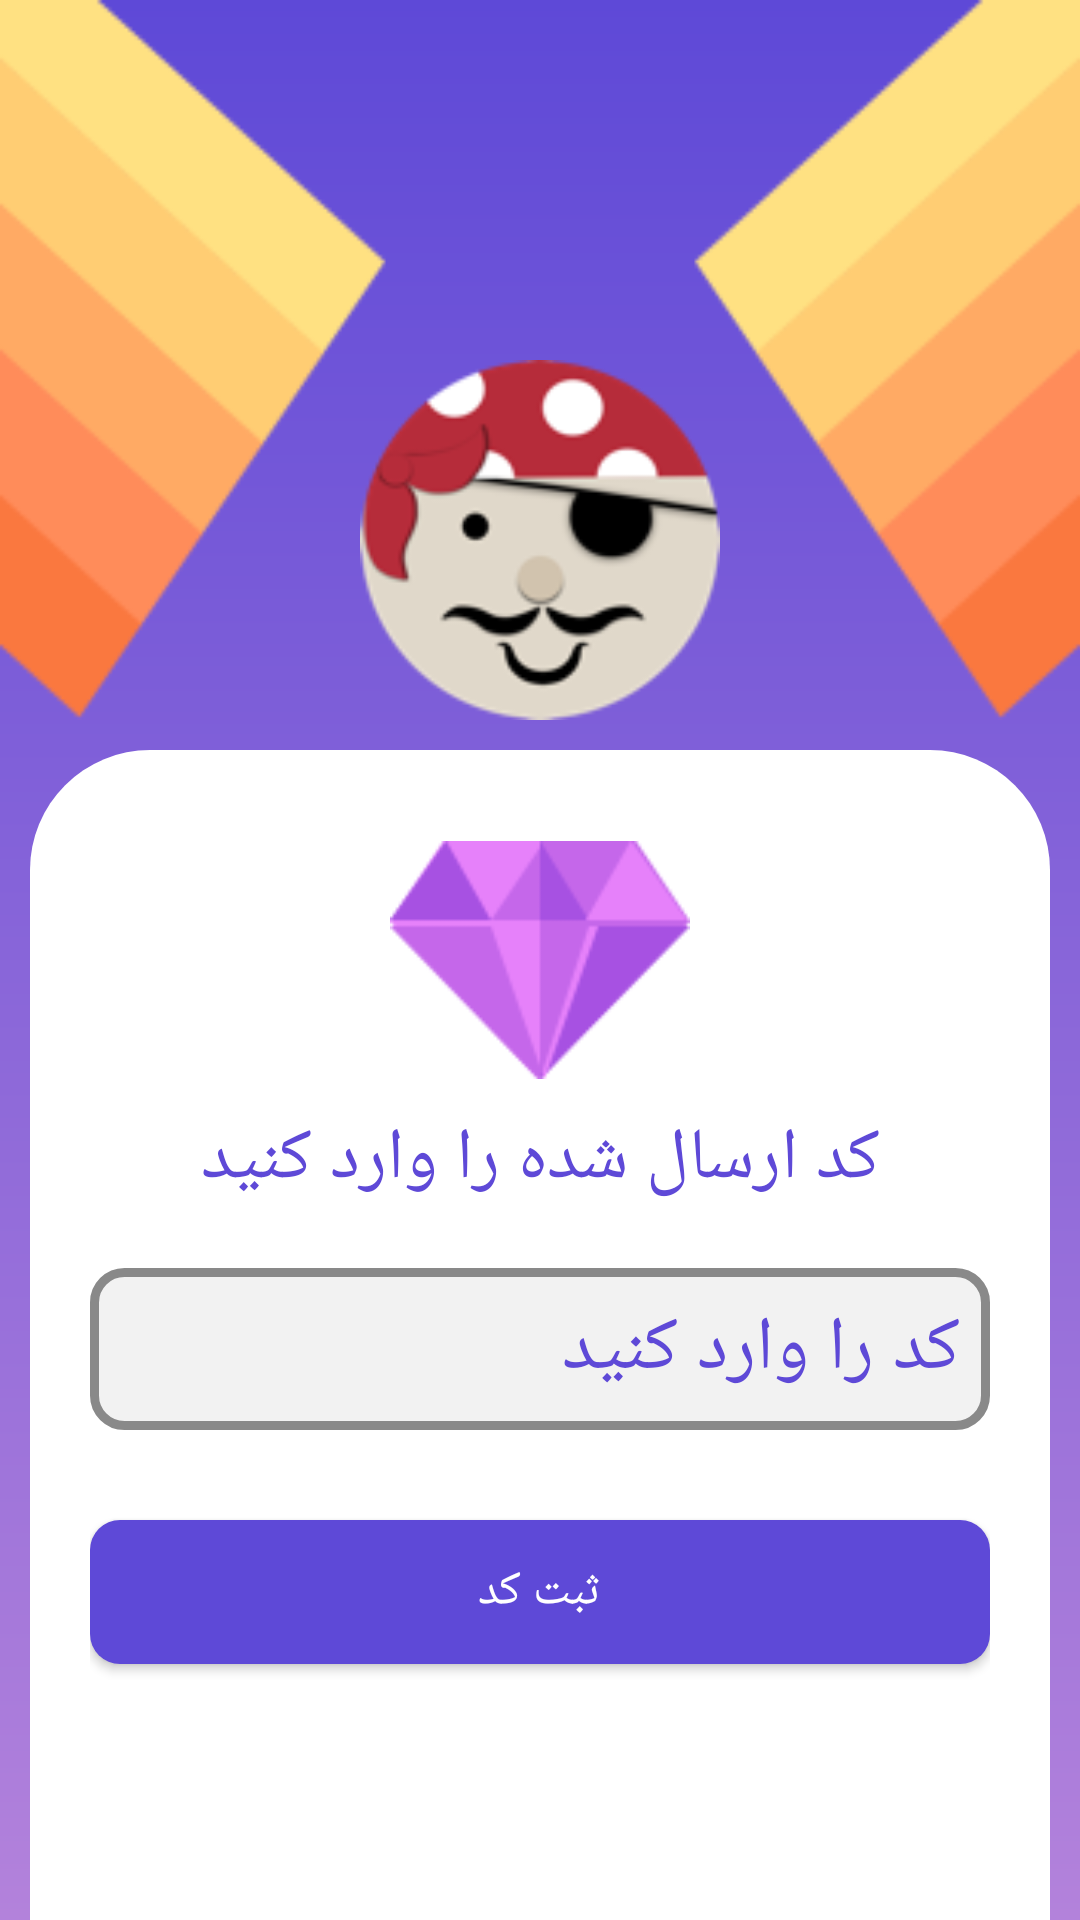

Where to tap for icons on this 1080 x 1920 app screen, as (x=x, y=y):
diamond per: (x=540, y=960)
